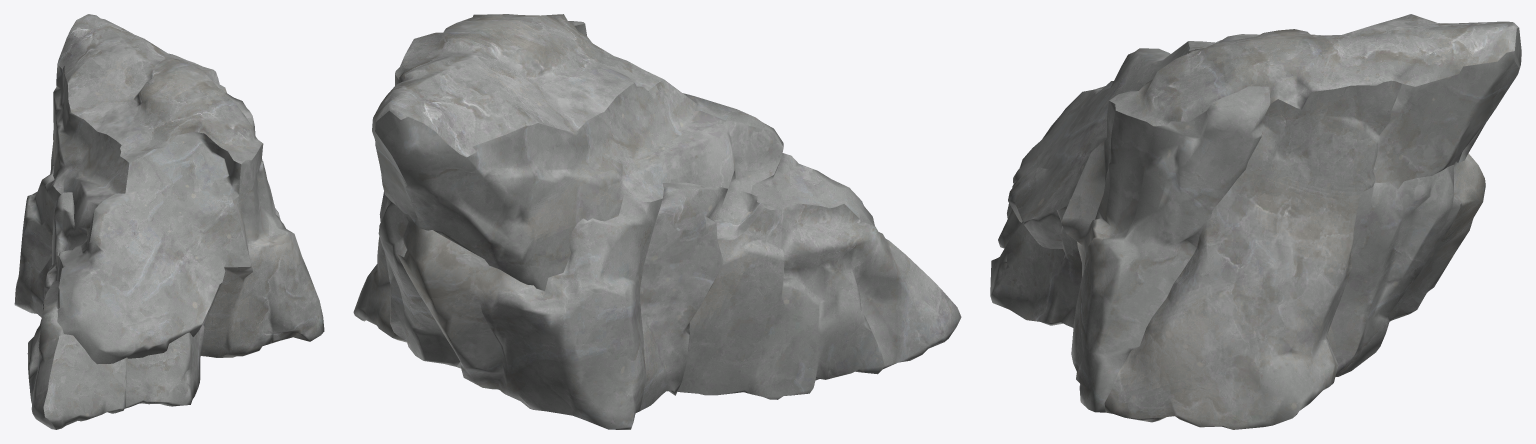
File: SM_Com_Roc_70AL.fbx
3 views of the same model, side by side, from view 1: azimuth 30°, elevation 25°; view 2: azimuth 150°, elevation 25°; view 3: azimuth 270°, elevation 25° (orthographic). The views are drawn at different scales.
Visible parts, largest first — view 1: SM_Com_Roc_70AL.mo; view 2: SM_Com_Roc_70AL.mo; view 3: SM_Com_Roc_70AL.mo.
Boxes of the visible parts, x1,y1,x2,y2 form: SM_Com_Roc_70AL.mo: (14,14,324,429); SM_Com_Roc_70AL.mo: (353,14,961,429); SM_Com_Roc_70AL.mo: (990,14,1521,429).
Size of the model in its own units: 204 by 147 by 204.
